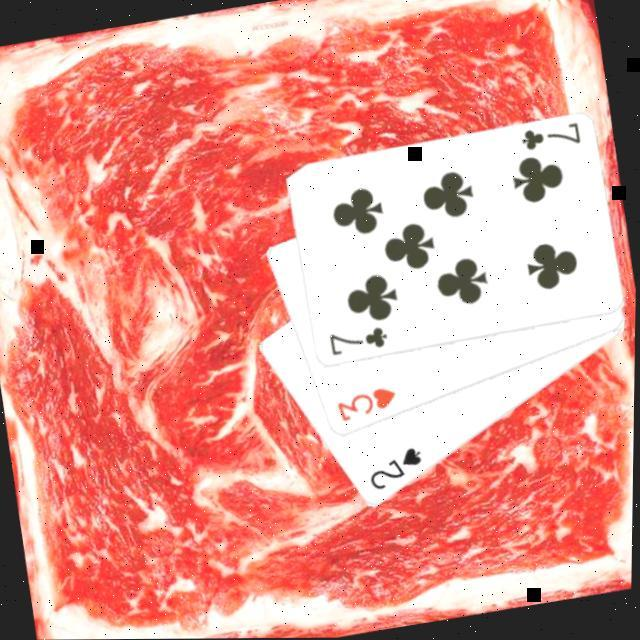2S: (365, 444, 432, 496)
3H: (334, 384, 406, 428)
7C: (328, 324, 394, 362), (520, 121, 586, 158)
